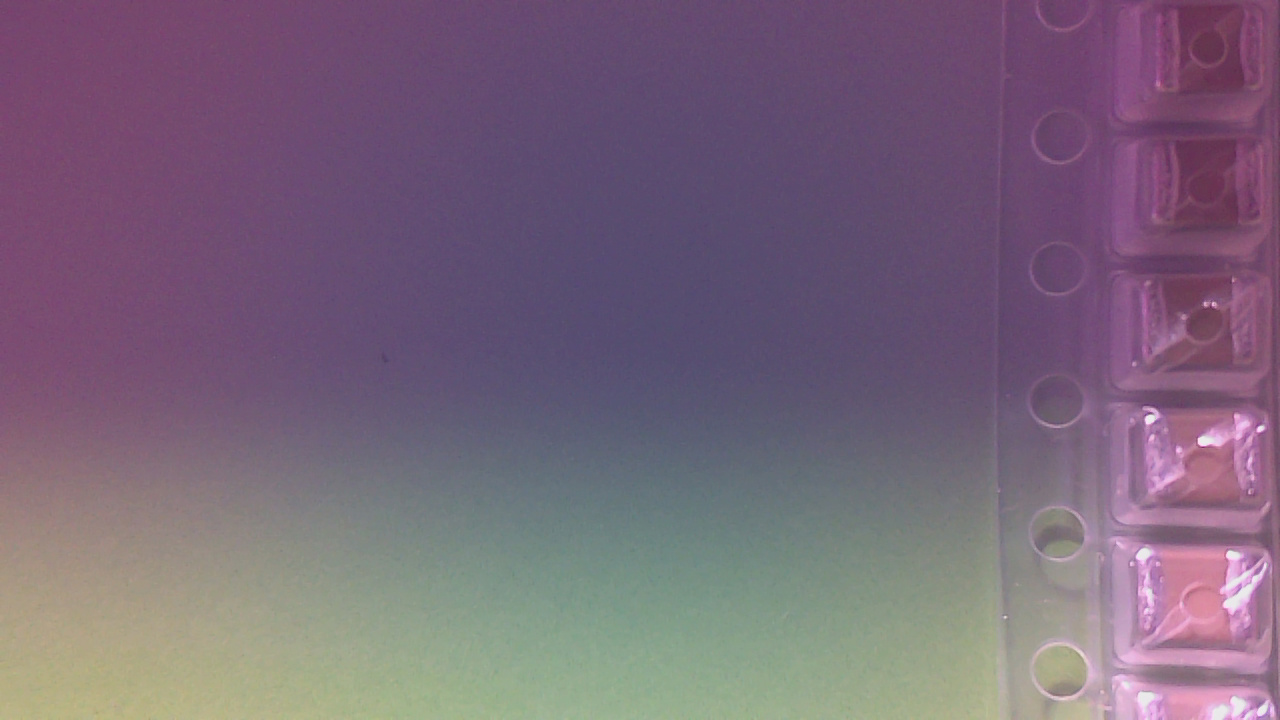Condensator: (1139, 556, 1256, 648), (1147, 416, 1264, 506), (1154, 144, 1263, 232), (1140, 279, 1245, 368), (1159, 14, 1262, 99)
